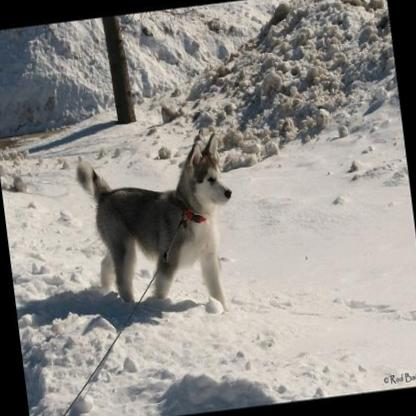malamute: (68, 120, 246, 322)
